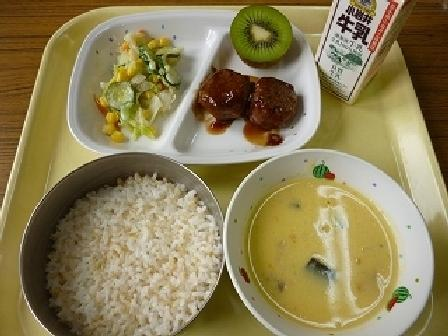Milk: (316, 0, 410, 98)
Rice: (28, 151, 228, 330)
Salad: (96, 33, 182, 135)
cutlet: (190, 70, 304, 135)
kiwi: (225, 6, 295, 69)
soup-plain: (225, 155, 433, 330)
